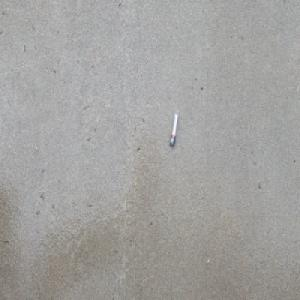Battery: (169, 114, 178, 148)
